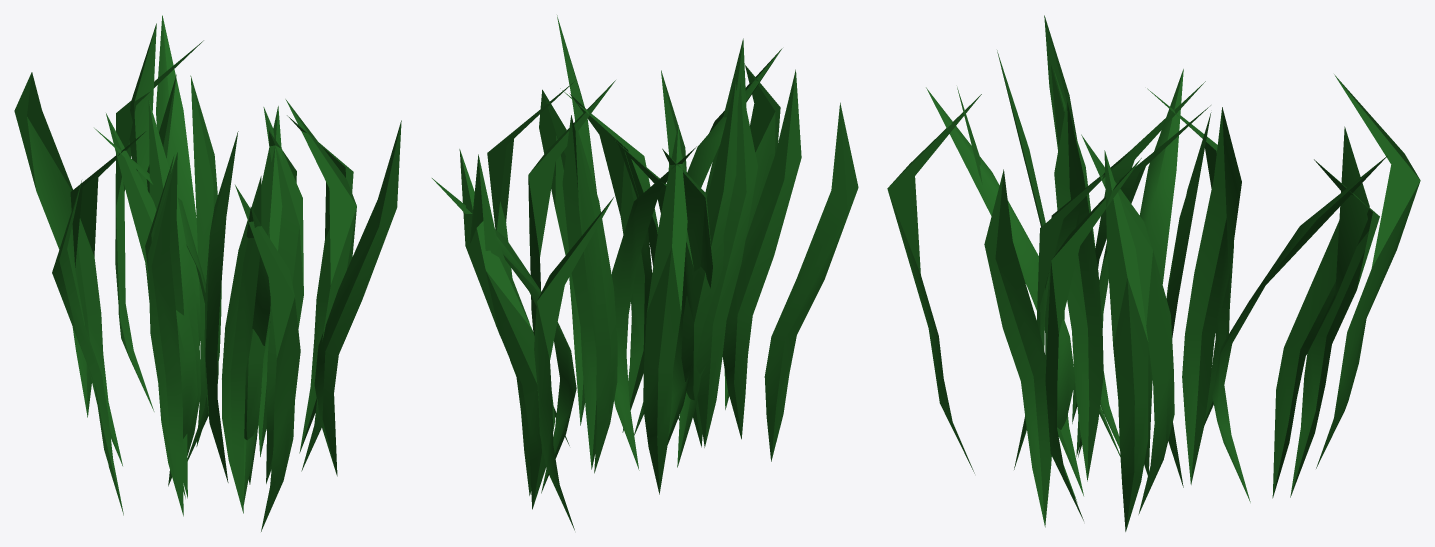
Rendered from Gras_v1.fbx.
3 views of the same model, side by side, from view 1: azimuth 30°, elevation 25°; view 2: azimuth 150°, elevation 25°; view 3: azimuth 270°, elevation 25° (orthographic). The views are drawn at different scales.
Visible parts, largest first — view 1: Gras_Foliage; view 2: Gras_Foliage; view 3: Gras_Foliage.
Boxes of the visible parts, bbox=[...] form: Gras_Foliage: bbox=[14, 15, 401, 531]; Gras_Foliage: bbox=[432, 15, 858, 530]; Gras_Foliage: bbox=[887, 15, 1420, 531].
Bounding box in the file's own units: 20.45 × 21.6 × 26.97.
